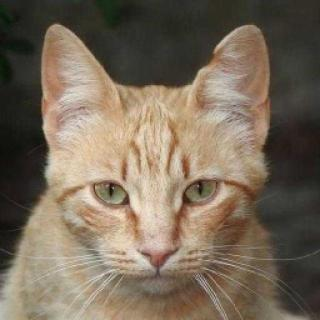cat: (36, 18, 280, 308)
nose: (134, 228, 184, 273)
